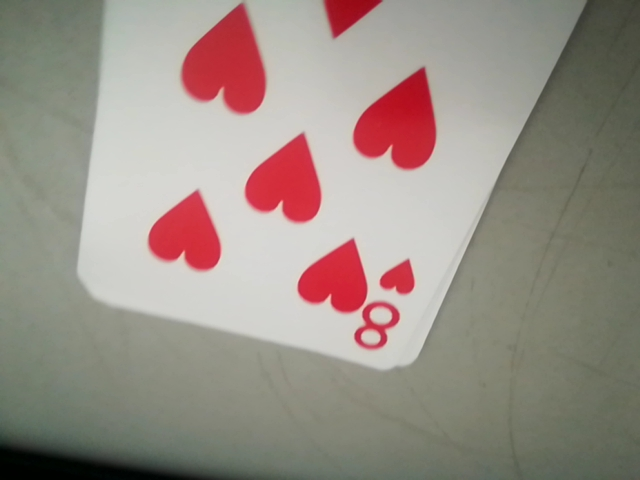hx 8: (351, 255, 433, 353)
